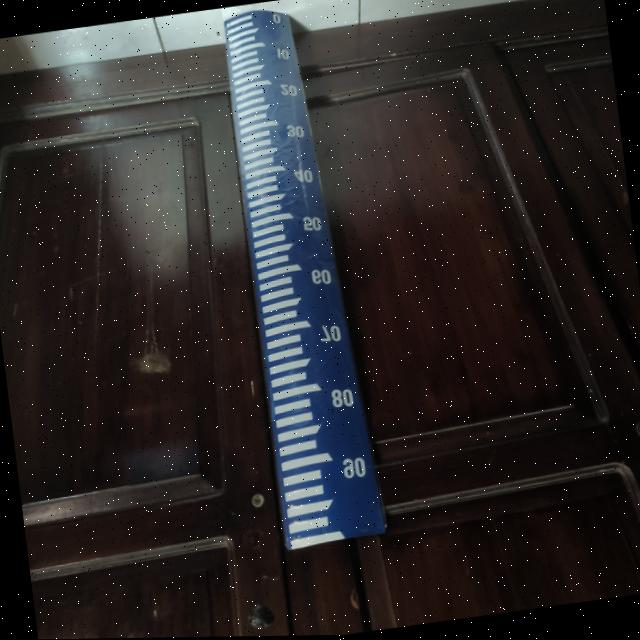water-meter: (201, 0, 398, 567)
